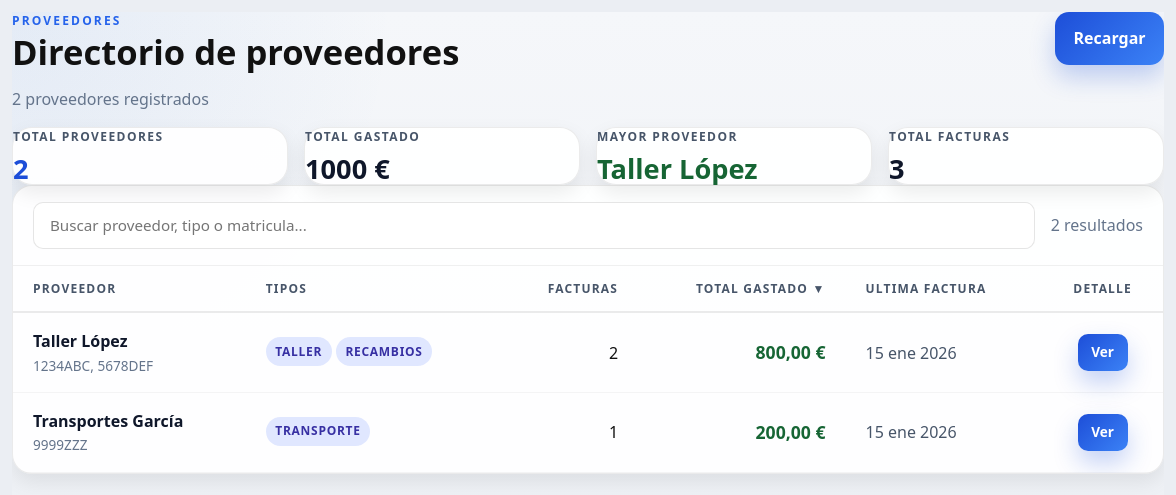
it: SuppliersView › filters suppliers by search
Step 1. Type "García" into the field with placeholder "Buscar proveedor, tipo o matricula..." → x=534, y=226, box [33,202,1035,249]
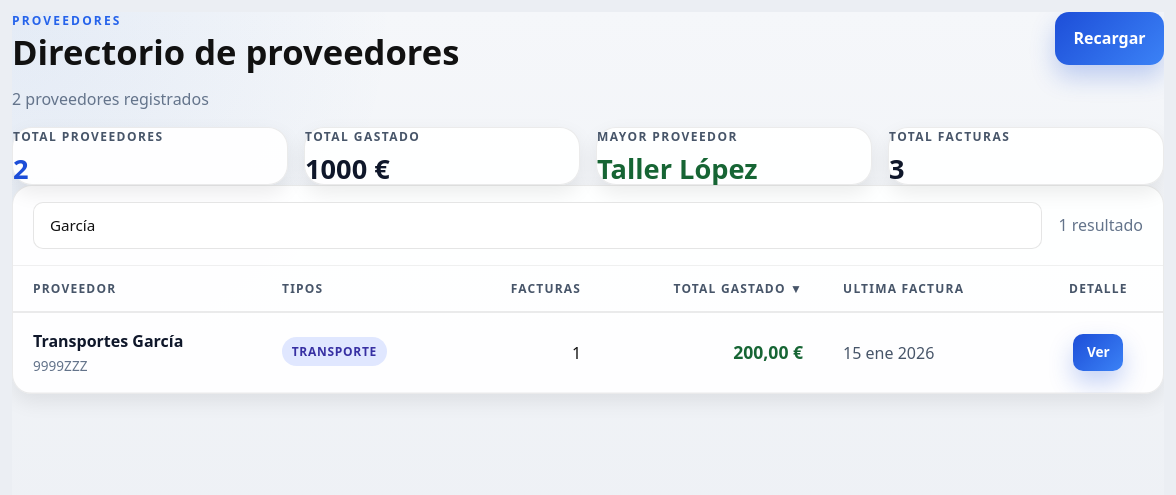
Expected: the text "1 resultado" is shown, [1058,214,1143,238]
